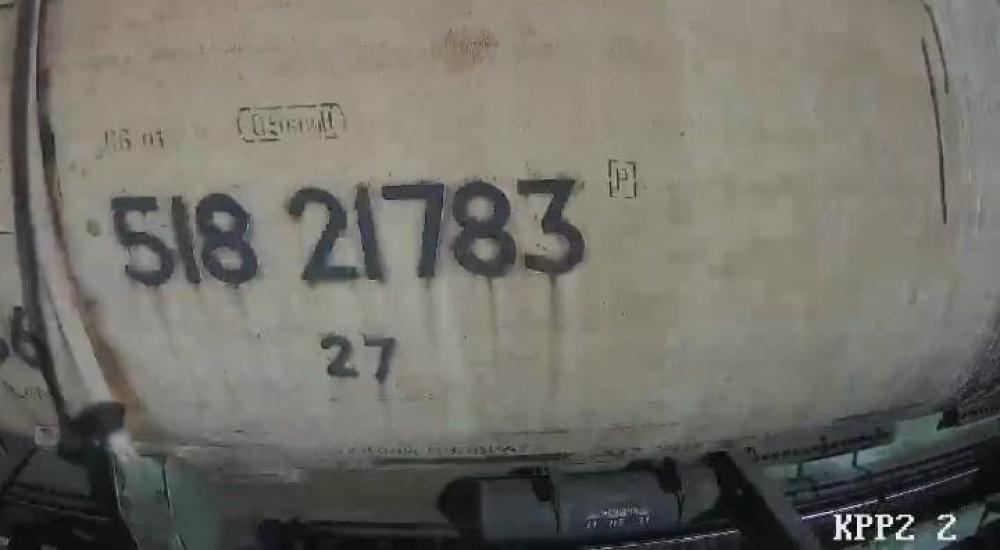Wagon-number: (105, 168, 595, 297)
